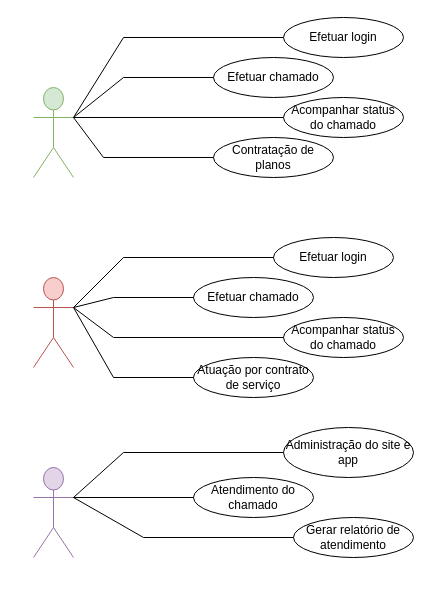
This 431x596 diagram has some shape labels left out. The box of each missing label's shape, as (x1, y1, x2, y2) in pixels:
ADM/Técnico: (32, 466, 74, 558)
PF: (32, 86, 74, 178)
PJ: (32, 276, 74, 368)
